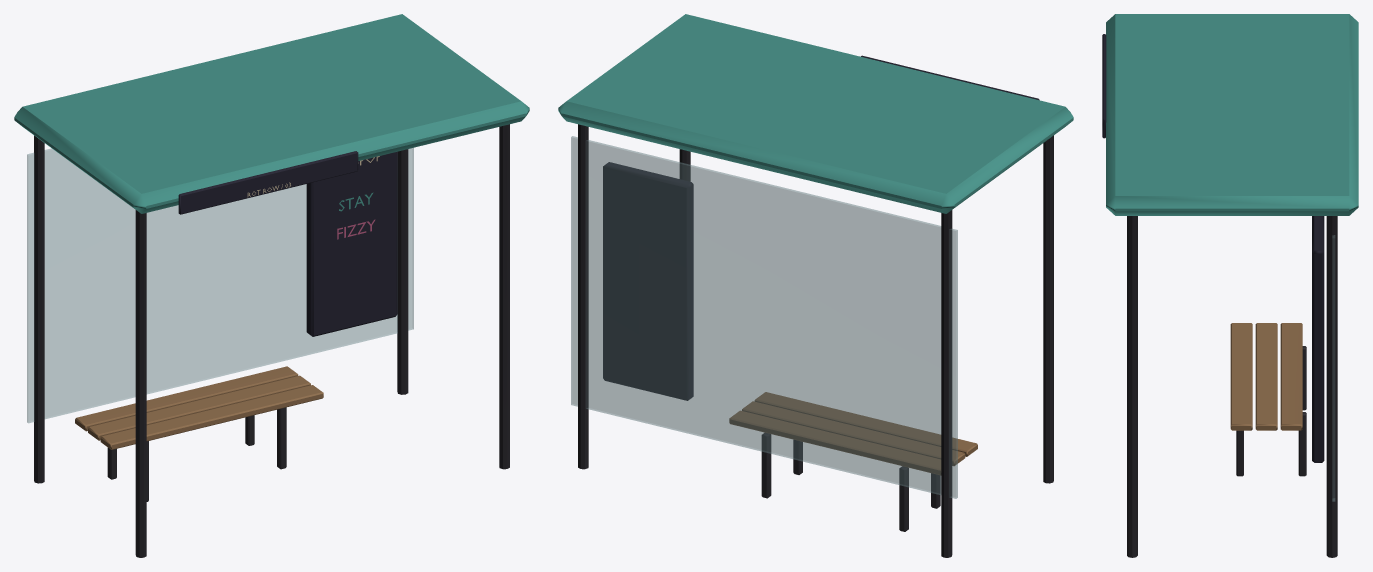
File: env_tram_stop.glb
3 renders of one model, left to right at view 1: azimuth 30°, elevation 25°; view 2: azimuth 150°, elevation 25°; view 3: azimuth 270°, elevation 25°, orthographic.
Parts seen in each view (by area): view 1: env_tram_stop, ad_panel; view 2: env_tram_stop, ad_panel; view 3: env_tram_stop, ad_panel.
Boxes of the visible parts, x1,y1,x2,y2 form: env_tram_stop: (14,14,529,557); ad_panel: (306,151,397,336); env_tram_stop: (558,14,1073,557); ad_panel: (603,162,693,400); env_tram_stop: (1102,14,1358,557); ad_panel: (1312,216,1324,462).
Size of the model in its own units: 2.88 by 2.57 by 1.64.
